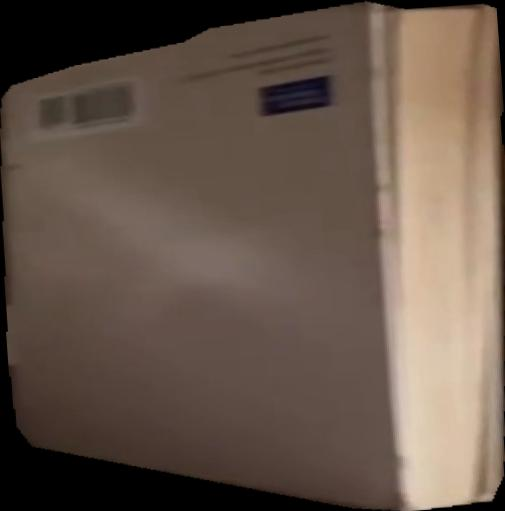backward: (1, 1, 505, 511)
